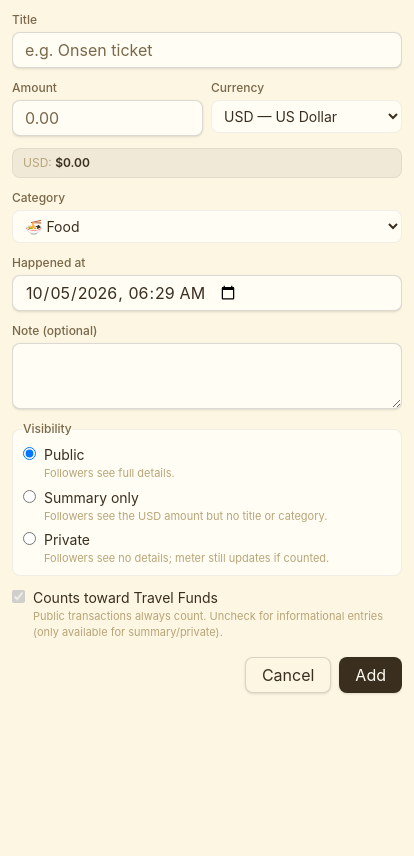
Scenario: TransactionForm Persistence › updates rate when changing currency if a rate is stored
This screenshot has width=414, height=856.
# Change to JPY
Select "JPY — Japanese Yen" in the dropdown labelled "Currency": (306, 116) [211,100,402,133]
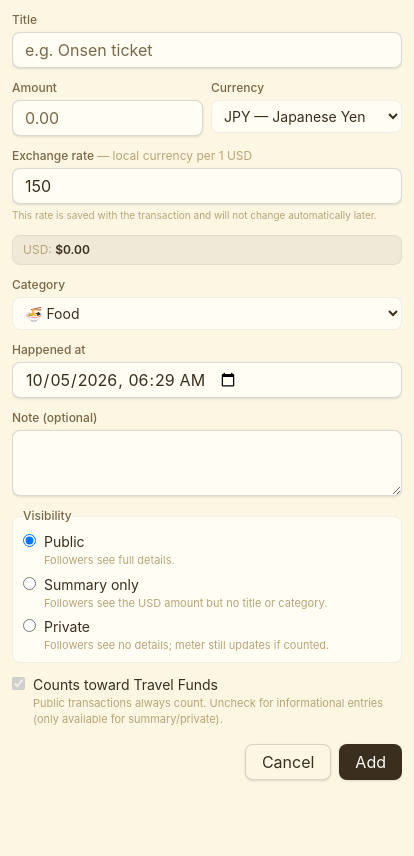
Result: the field labelled "Exchange rate — local currency per 1 USD" holds "150" at [12,168,402,204]
# Change to EUR
Select "EUR — Euro" in the dropdown labelled "Currency": (306, 116) [211,100,402,133]
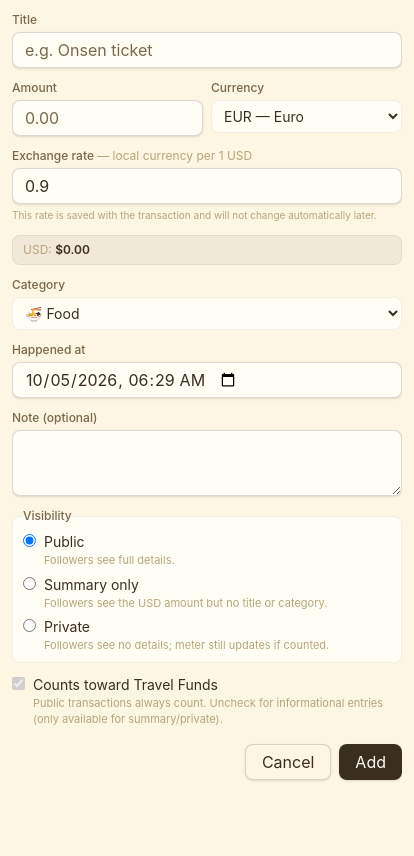
Result: the field labelled "Exchange rate — local currency per 1 USD" holds "0.9" at [12,168,402,204]
# Change to AUD (not stored) - should default to 1
Select "AUD — Australian Dollar" in the dropdown labelled "Currency": (306, 116) [211,100,402,133]
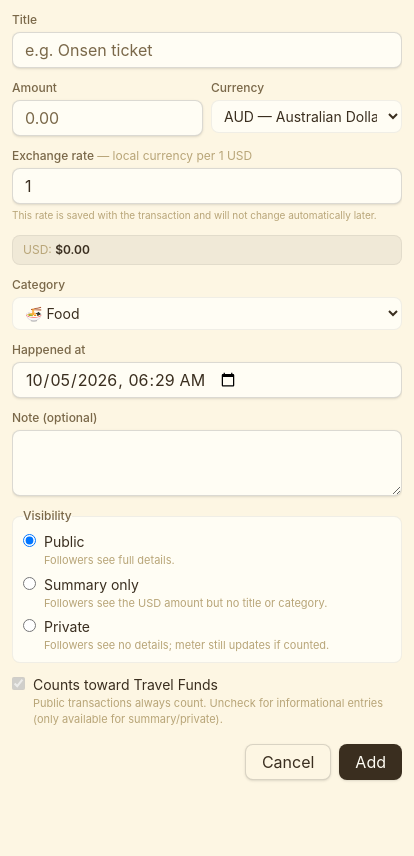
Result: the field labelled "Exchange rate — local currency per 1 USD" holds "1" at [12,168,402,204]
# Change back to JPY (stored 150)
Select "JPY — Japanese Yen" in the dropdown labelled "Currency": (306, 116) [211,100,402,133]
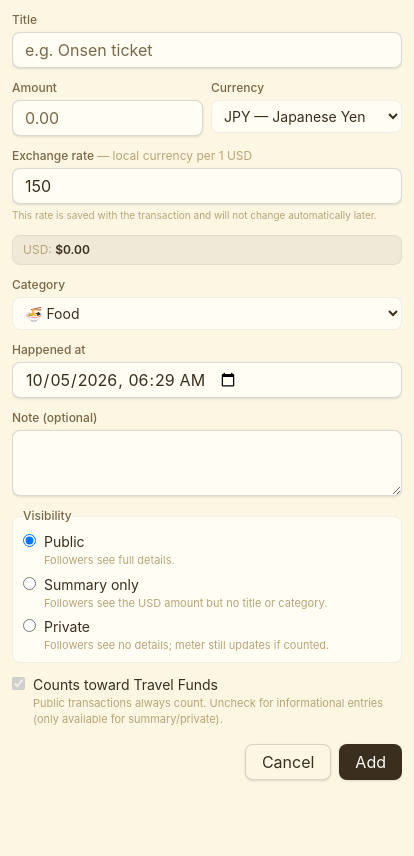
Result: the field labelled "Exchange rate — local currency per 1 USD" holds "150" at [12,168,402,204]
# Change to USD (rate input disappears)
Select "USD — US Dollar" in the dropdown labelled "Currency": (306, 116) [211,100,402,133]
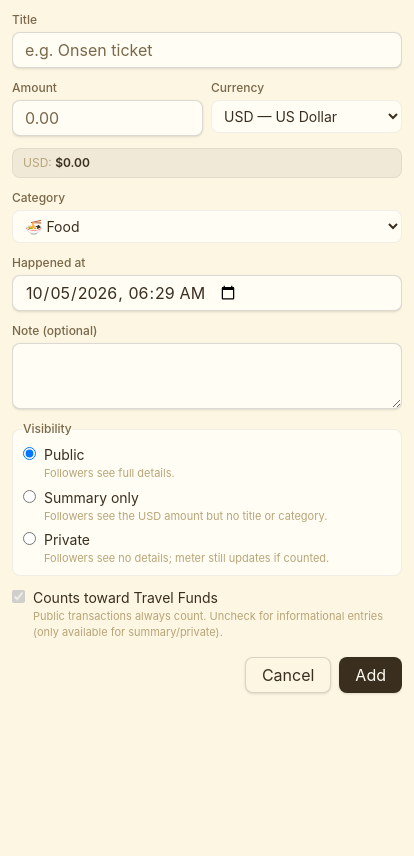
Result: the label labelled "Exchange rate" is gone
# Change to AUD (not stored, should be 1 because we reset it when selecting USD)
Select "AUD — Australian Dollar" in the dropdown labelled "Currency": (306, 116) [211,100,402,133]
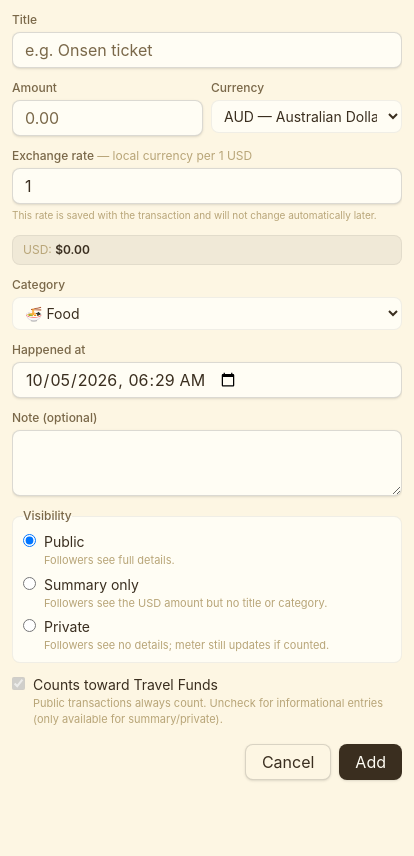
Result: the field labelled "Exchange rate — local currency per 1 USD" holds "1" at [12,168,402,204]
